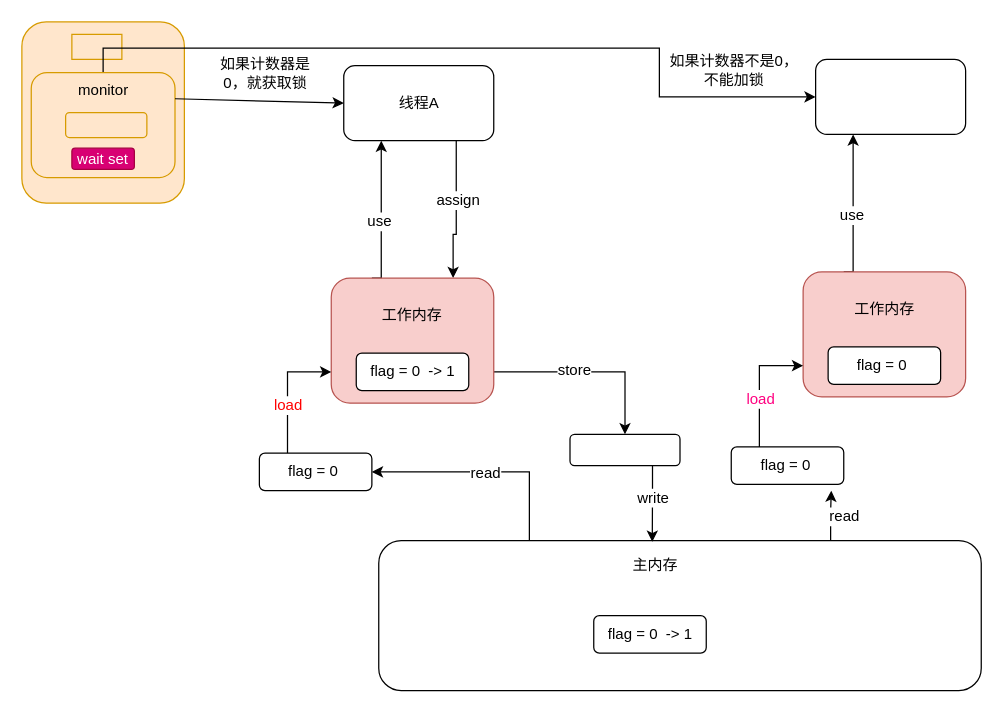
Some shapes in this 1004 by 713 pixel diagram are drawn without their labels. The centre of each missing label's shape, as x and y in pixels:
"flag = 1" belongs at [624,449].
"myObject 对象实例" belongs at [96,46].
"线程B" belongs at [890,96].
"计数器 = 0" belongs at [105,124].
